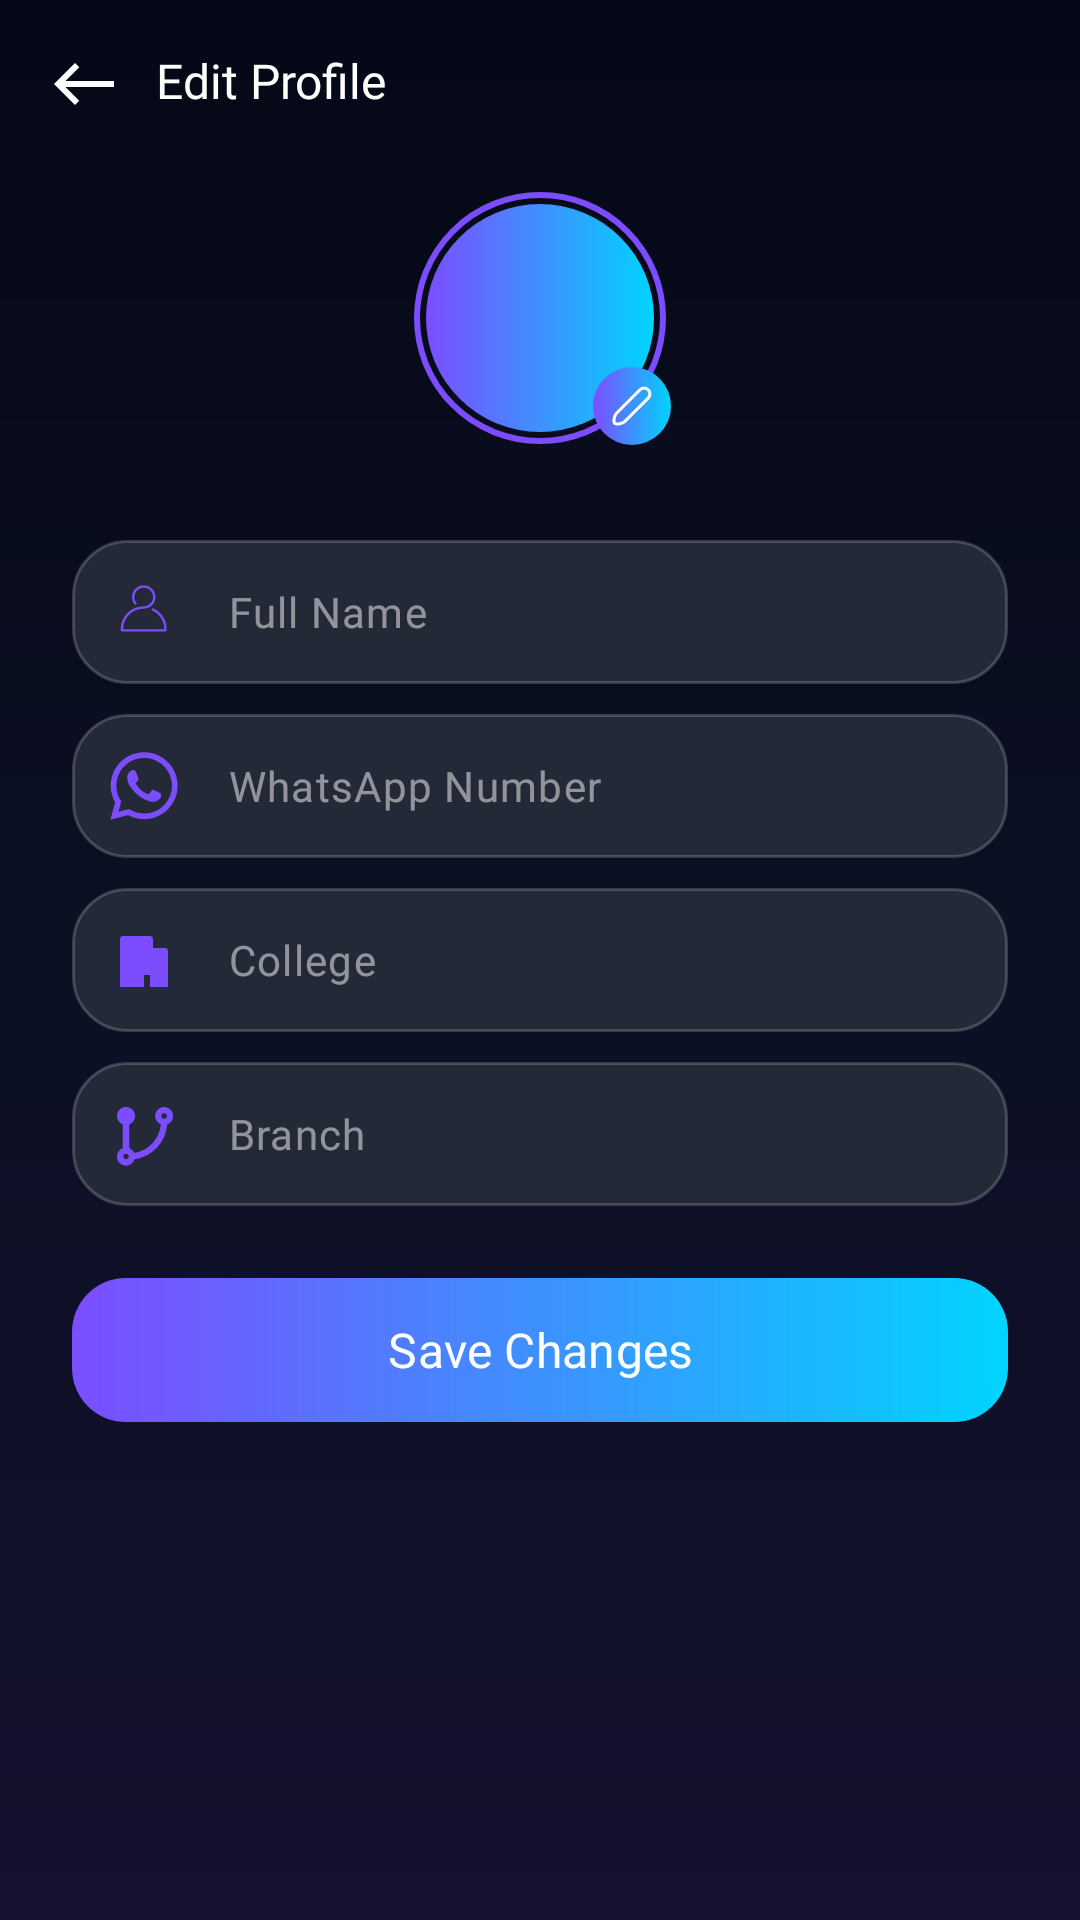

Icon bounding boxes for this 1080×1920 phone screenshot, format [x1, y1, x2, y2]:
edit camera: [593, 367, 671, 445]
